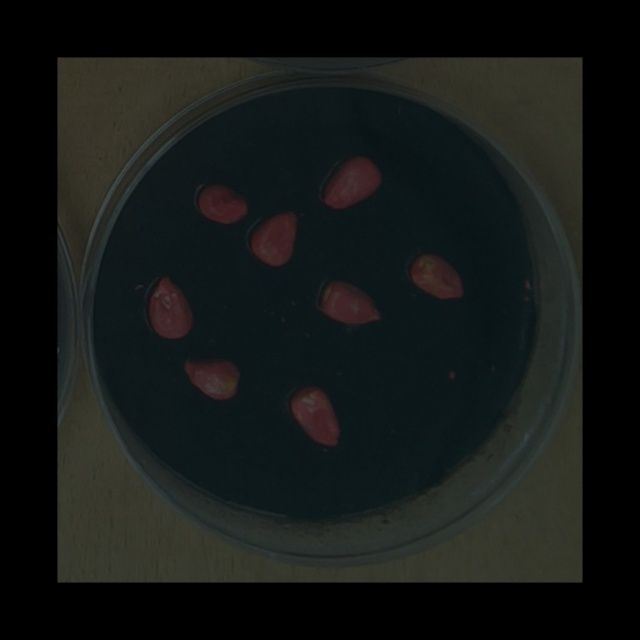Zea mays: (317, 149, 388, 214), (286, 378, 346, 452), (145, 268, 199, 344), (314, 273, 386, 329), (244, 205, 304, 271), (404, 246, 469, 302), (178, 351, 247, 403), (192, 177, 254, 228)
